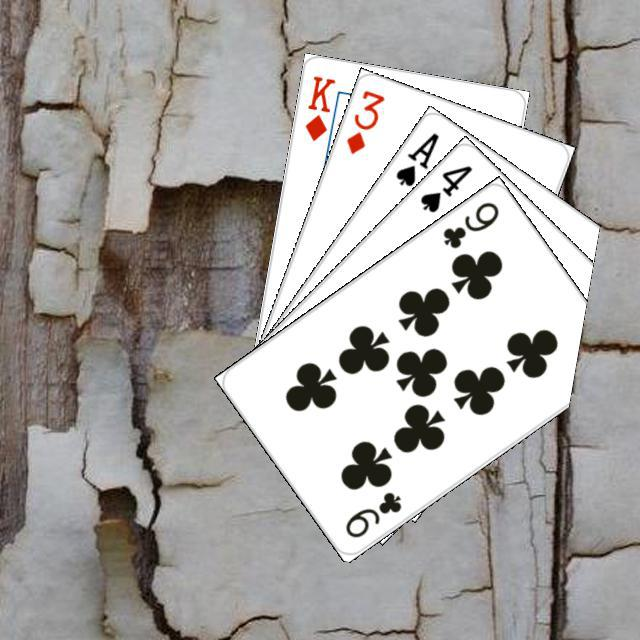3d: (341, 85, 387, 156)
4s: (415, 160, 474, 215)
9c: (437, 196, 501, 250), (340, 487, 404, 540)
As: (390, 127, 441, 189)
Kd: (300, 71, 337, 143)
